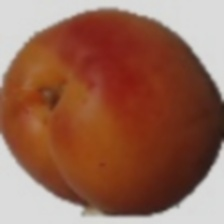apricot: (29, 32, 224, 203)
